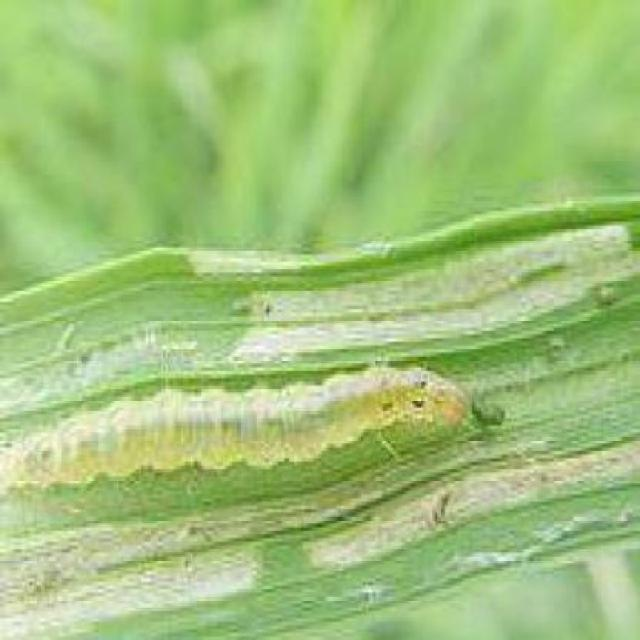leaf-folder: (15, 340, 493, 506)
